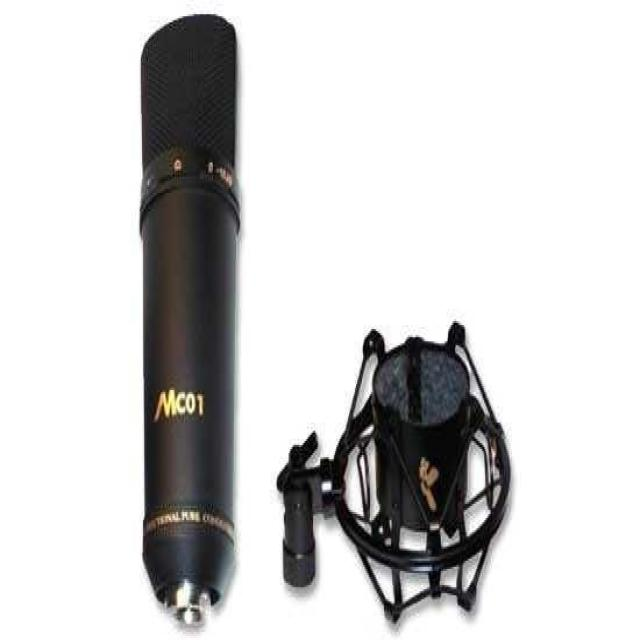microphone: (140, 15, 240, 623)
